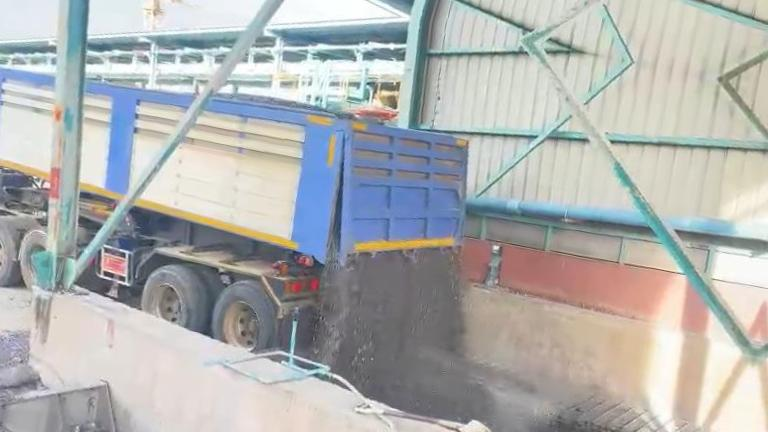gravel: (311, 248, 528, 432), (0, 331, 39, 415)
